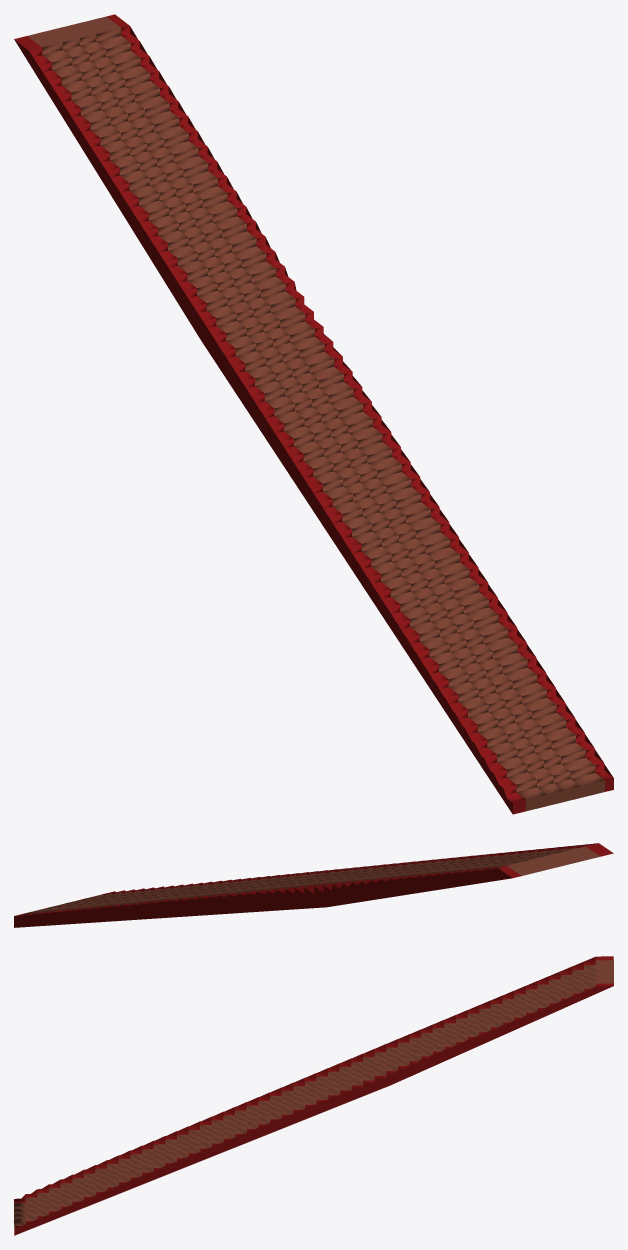
File: libstairs.fbx
The picture shows the model from 3 angles, top to bottom: view 1: azimuth 30°, elevation 25°; view 2: azimuth 210°, elevation 25°; view 3: azimuth 270°, elevation 25°; orthographic projection. The views are drawn at different scales.
Visible parts, largest first — view 1: Stairs; view 2: Stairs; view 3: Stairs.
Boxes of the visible parts, bbox=[...] form: Stairs: bbox=[14, 14, 613, 814]; Stairs: bbox=[14, 843, 613, 927]; Stairs: bbox=[14, 956, 613, 1235].
Bounding box in the file's own units: 1083 × 4128 × 9012.
